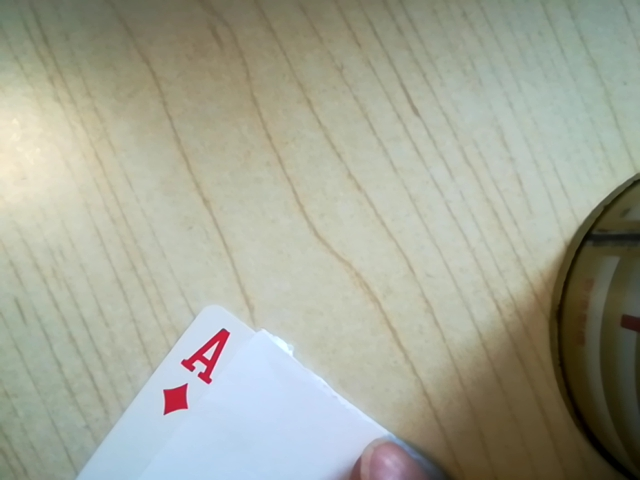fk a: (150, 328, 236, 419)
